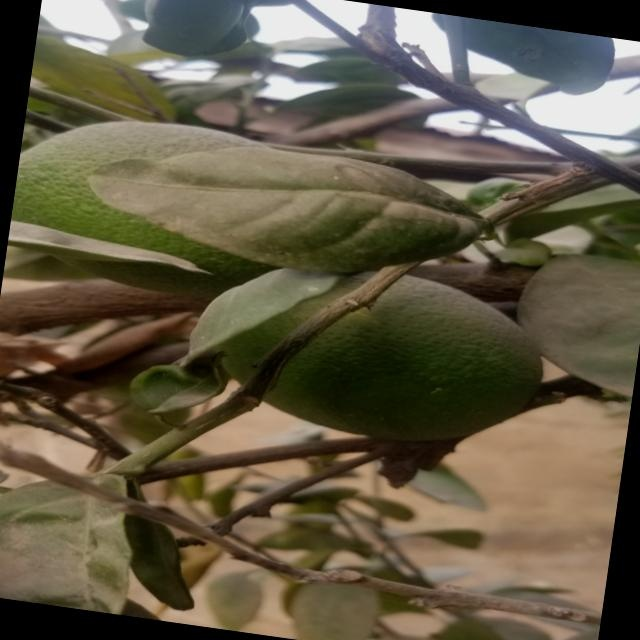agrume: (184, 250, 537, 465), (14, 107, 302, 305)
